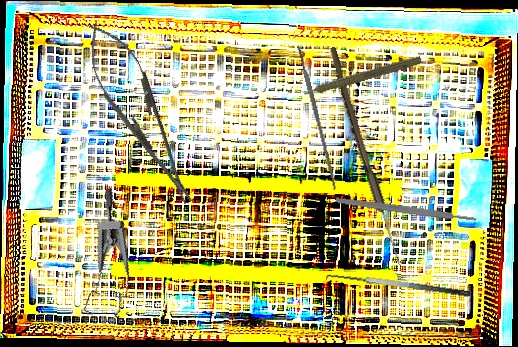Handpiece: (294, 50, 423, 102)
Needle Holder: (70, 13, 210, 215)
Scalpel Handle: (296, 45, 339, 191), (335, 196, 477, 224)
Spatula Surgical: (324, 267, 471, 310)
Speculum: (51, 187, 151, 327)
Surgical Spoon: (324, 46, 406, 267)
